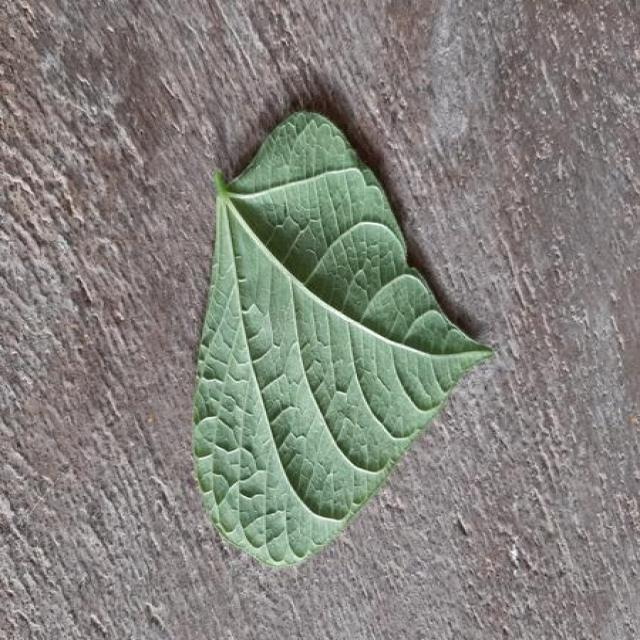beans: (195, 112, 492, 566)
